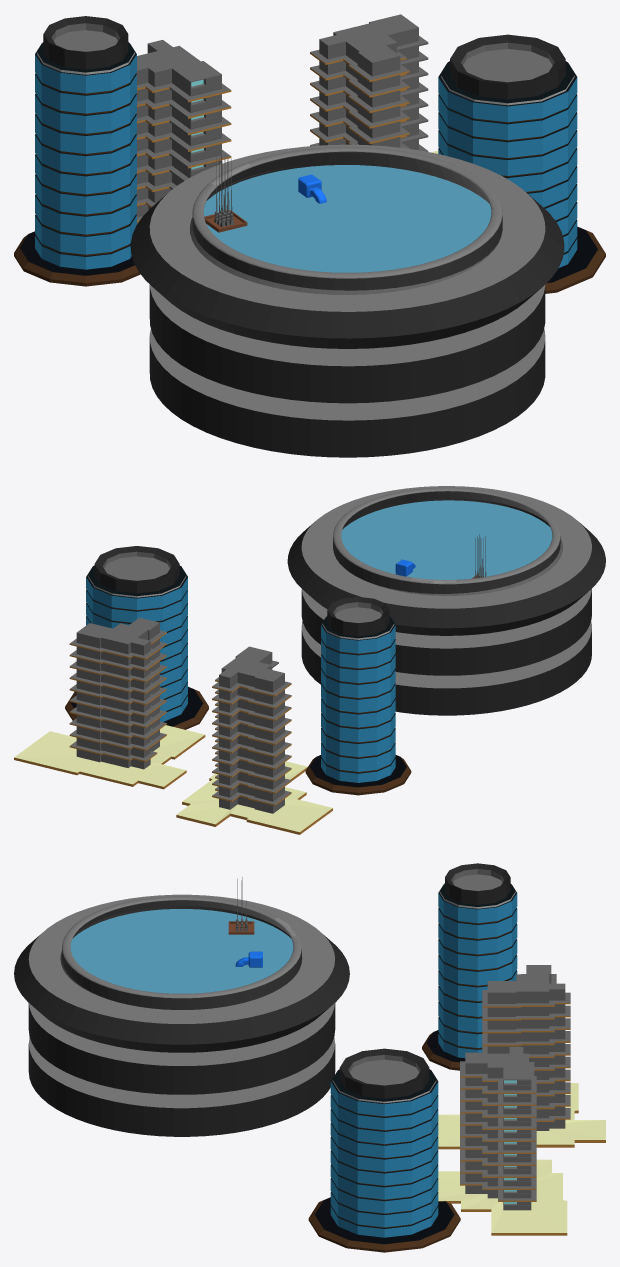
Rendered from Platform3.fbx.
The picture shows the model from 3 angles, top to bottom: view 1: azimuth 30°, elevation 25°; view 2: azimuth 150°, elevation 25°; view 3: azimuth 270°, elevation 25°; orthographic projection. The views are drawn at different scales.
Parts seen in each view (by area): view 1: building_019, building_004.001, building_004, building_006.001, building_006; view 2: building_019, building_006.001, building_004.001, building_006, building_004; view 3: building_019, building_004, building_006.001, building_004.001, building_006.
Boxes of the visible parts, box(x1,y1,x2,y2) form: building_019: box(130, 144, 564, 457); building_004.001: box(14, 16, 140, 286); building_004: box(438, 34, 605, 293); building_006.001: box(310, 14, 438, 153); building_006: box(136, 40, 231, 224); building_019: box(287, 486, 605, 715); building_006.001: box(14, 617, 205, 789); building_004.001: box(305, 597, 411, 795); building_006: box(176, 646, 332, 834); building_004: box(65, 546, 208, 729); building_019: box(14, 877, 349, 1136); building_004: box(308, 1048, 460, 1252); building_006.001: box(438, 1047, 567, 1235); building_004.001: box(422, 863, 517, 1070); building_006: box(438, 965, 605, 1149).
Bounding box in the file's own units: 8234 × 3725 × 9672.
3 materials, 3 textured.
